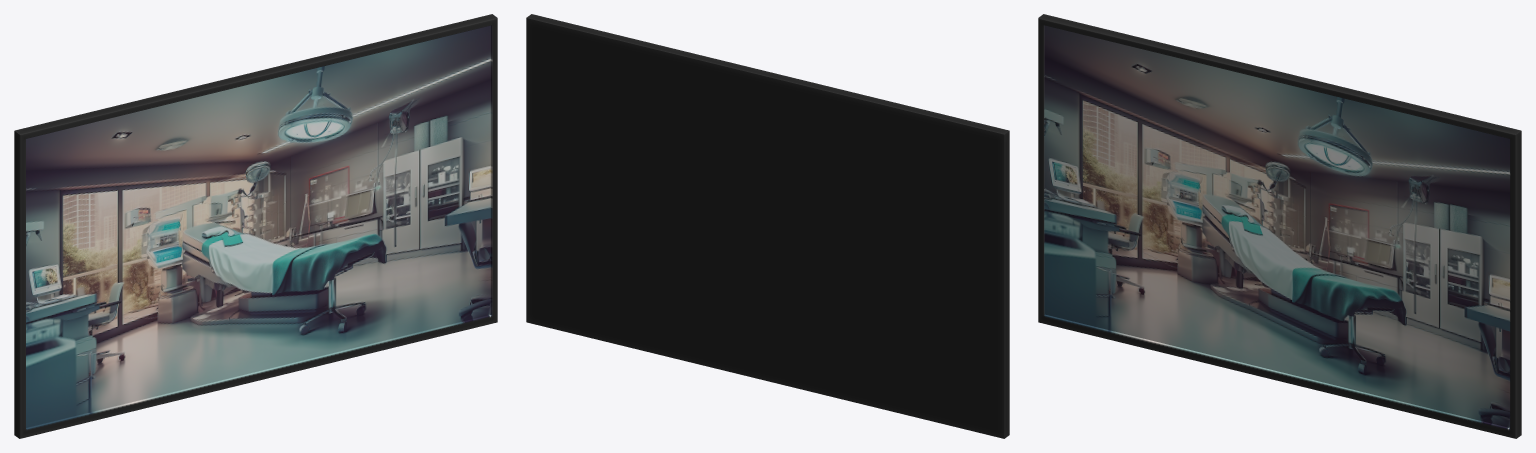
Rendered from LEDTV.fbx.
3 views of the same model, side by side, from view 1: azimuth 30°, elevation 25°; view 2: azimuth 150°, elevation 25°; view 3: azimuth 330°, elevation 25° (orthographic).
Visible parts, largest first — view 1: LEDTV; view 2: LEDTV; view 3: LEDTV.
Part boxes in pixels (x1,y1,x2,y2): LEDTV: (14,14,497,438); LEDTV: (526,14,1009,438); LEDTV: (1038,14,1521,438).
Bounding box in the file's own units: 182 × 111 × 3.81.
Materials: 1 (1 with a texture image).
